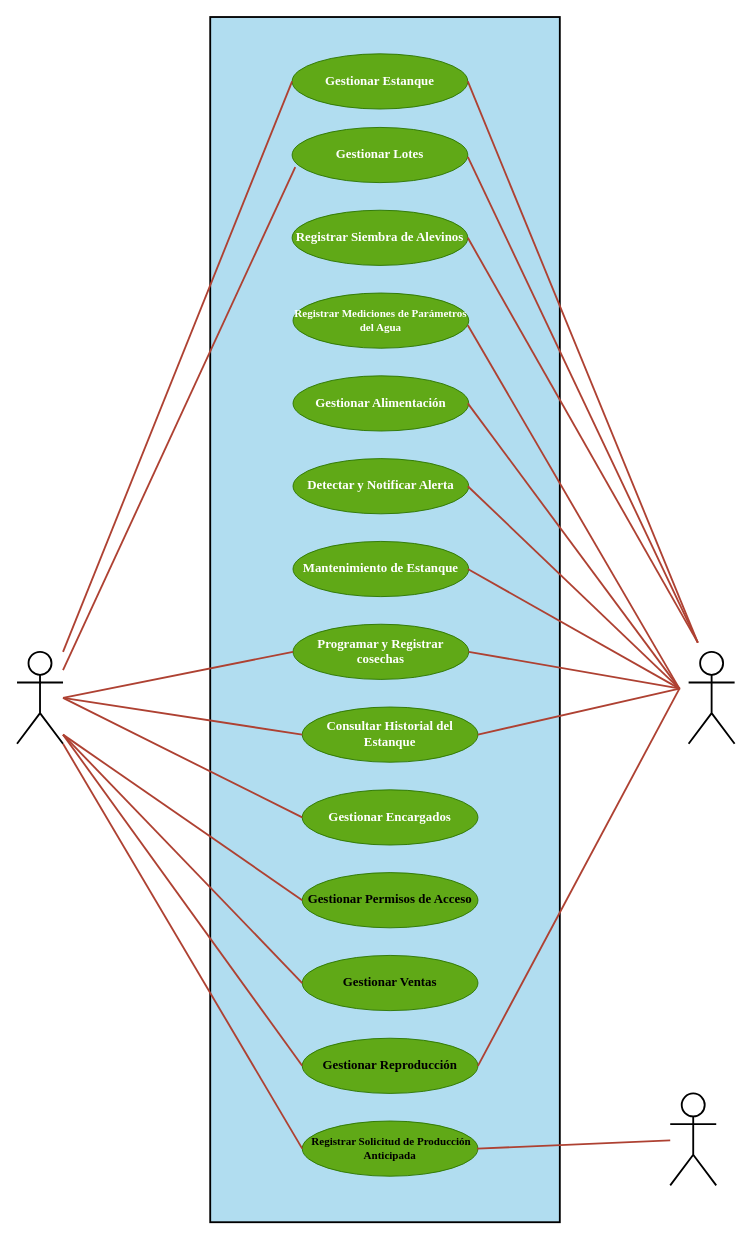
Image size: 753x1238. Some labels were removed from this diagram. Each missing label, with the box of its shape:
Comprador: (669, 1092, 717, 1186)
Encargado: (687, 650, 735, 744)
Jefe: (16, 650, 63, 744)
Sistema de Gestión de una Piscícola: (209, 16, 560, 1223)
